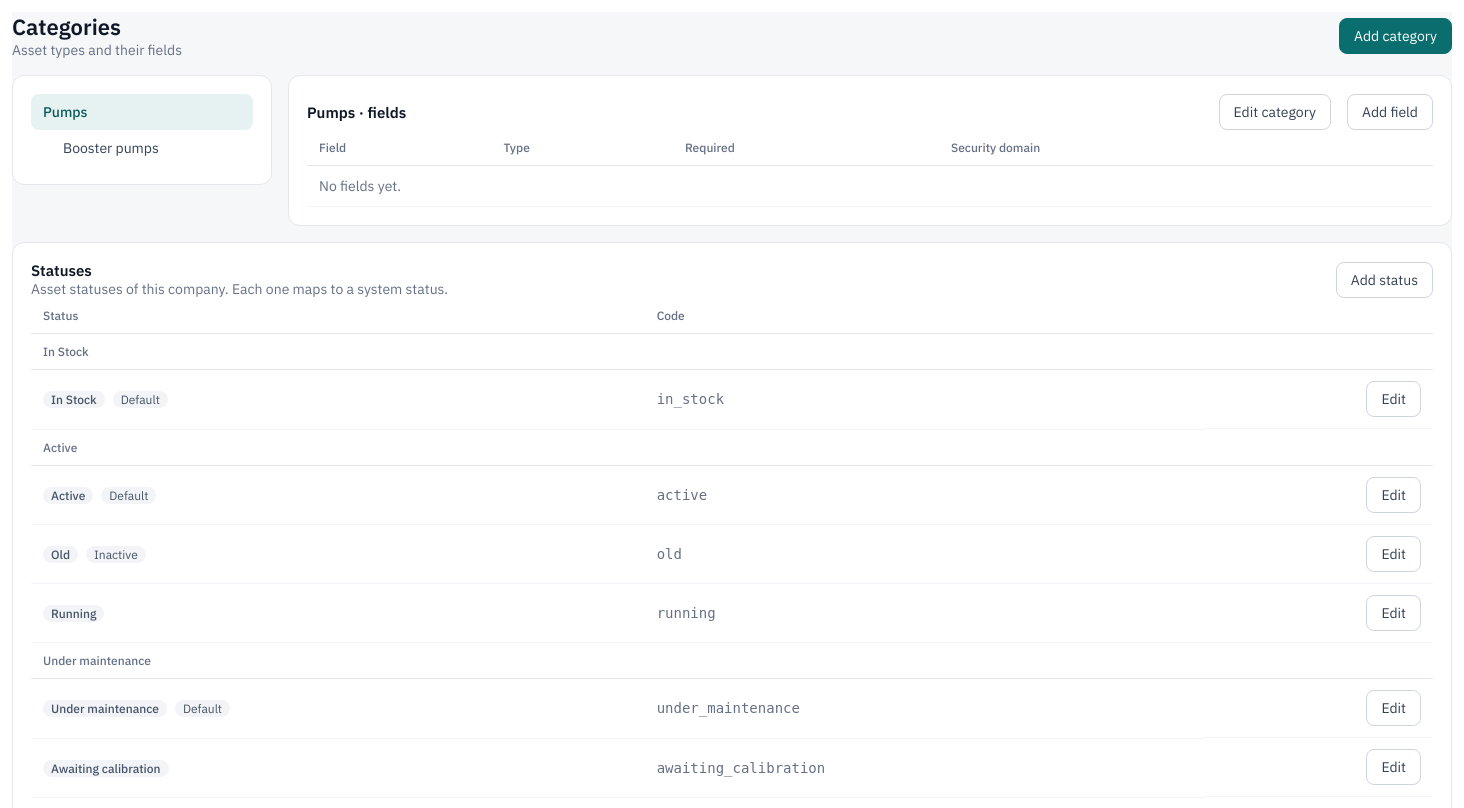
Test: a write the database refuses shows the permission message
Click the button "Add category": [1396, 36] box x1=1339 y1=18 x2=1452 y2=54
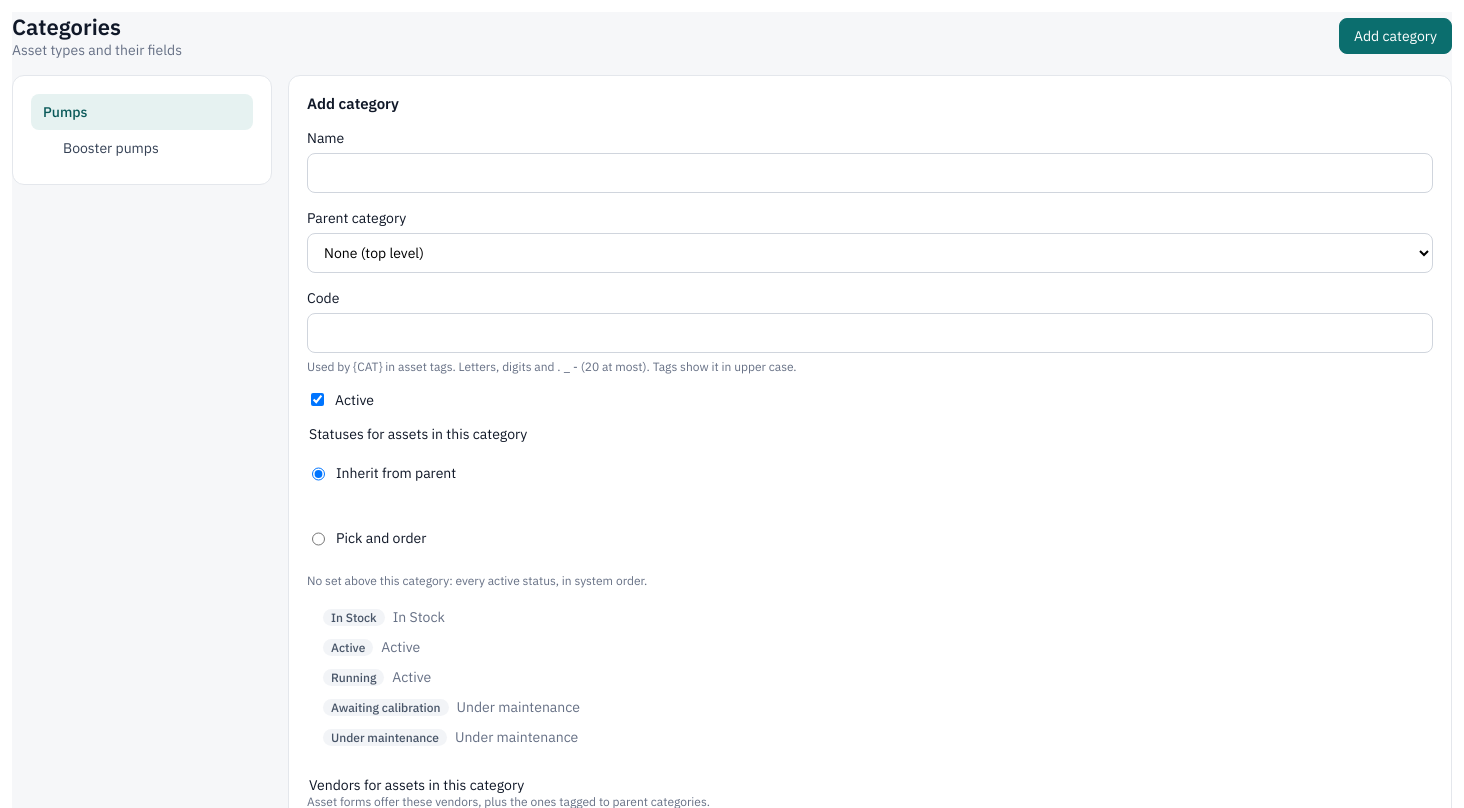
In the field named "name": [870, 173] box x1=307 y1=153 x2=1433 y2=193, type "Compressors"
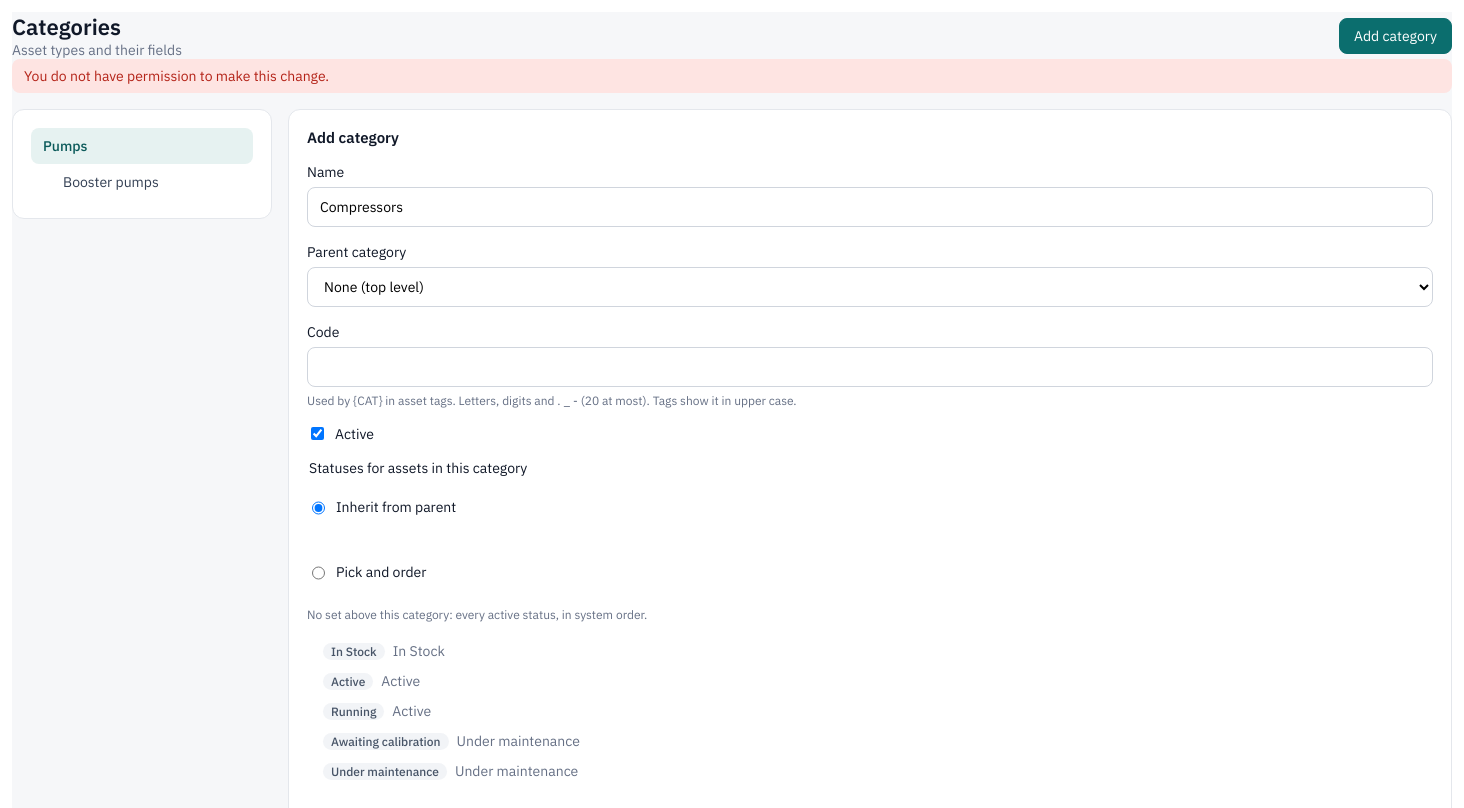
Result: the message "You do not have permission to make this change." is shown at x1=12 y1=59 x2=1452 y2=93
